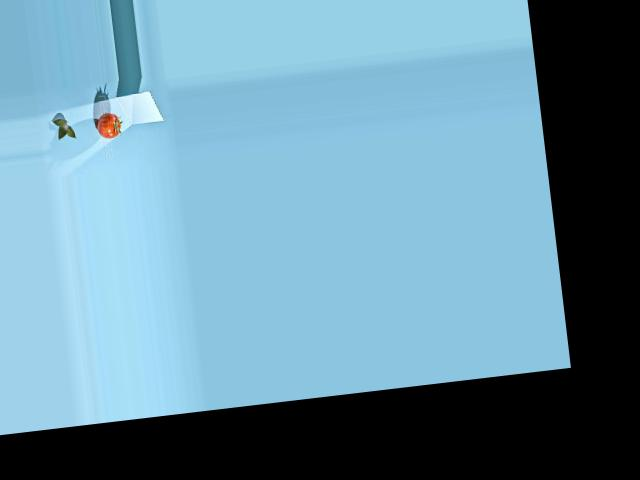tomato: (95, 111, 122, 140)
